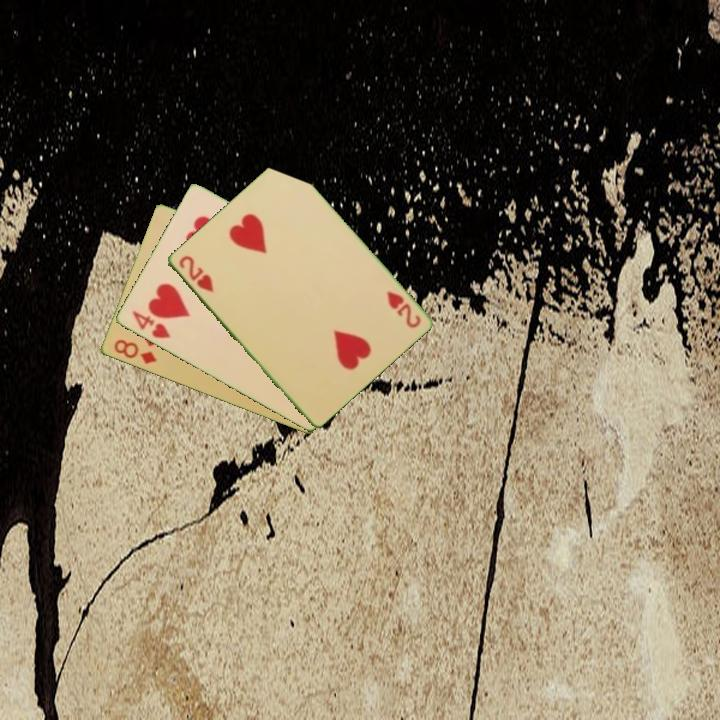2h: (382, 287, 424, 331), (175, 252, 216, 295)
4h: (128, 307, 173, 342)
8d: (110, 336, 160, 368)
